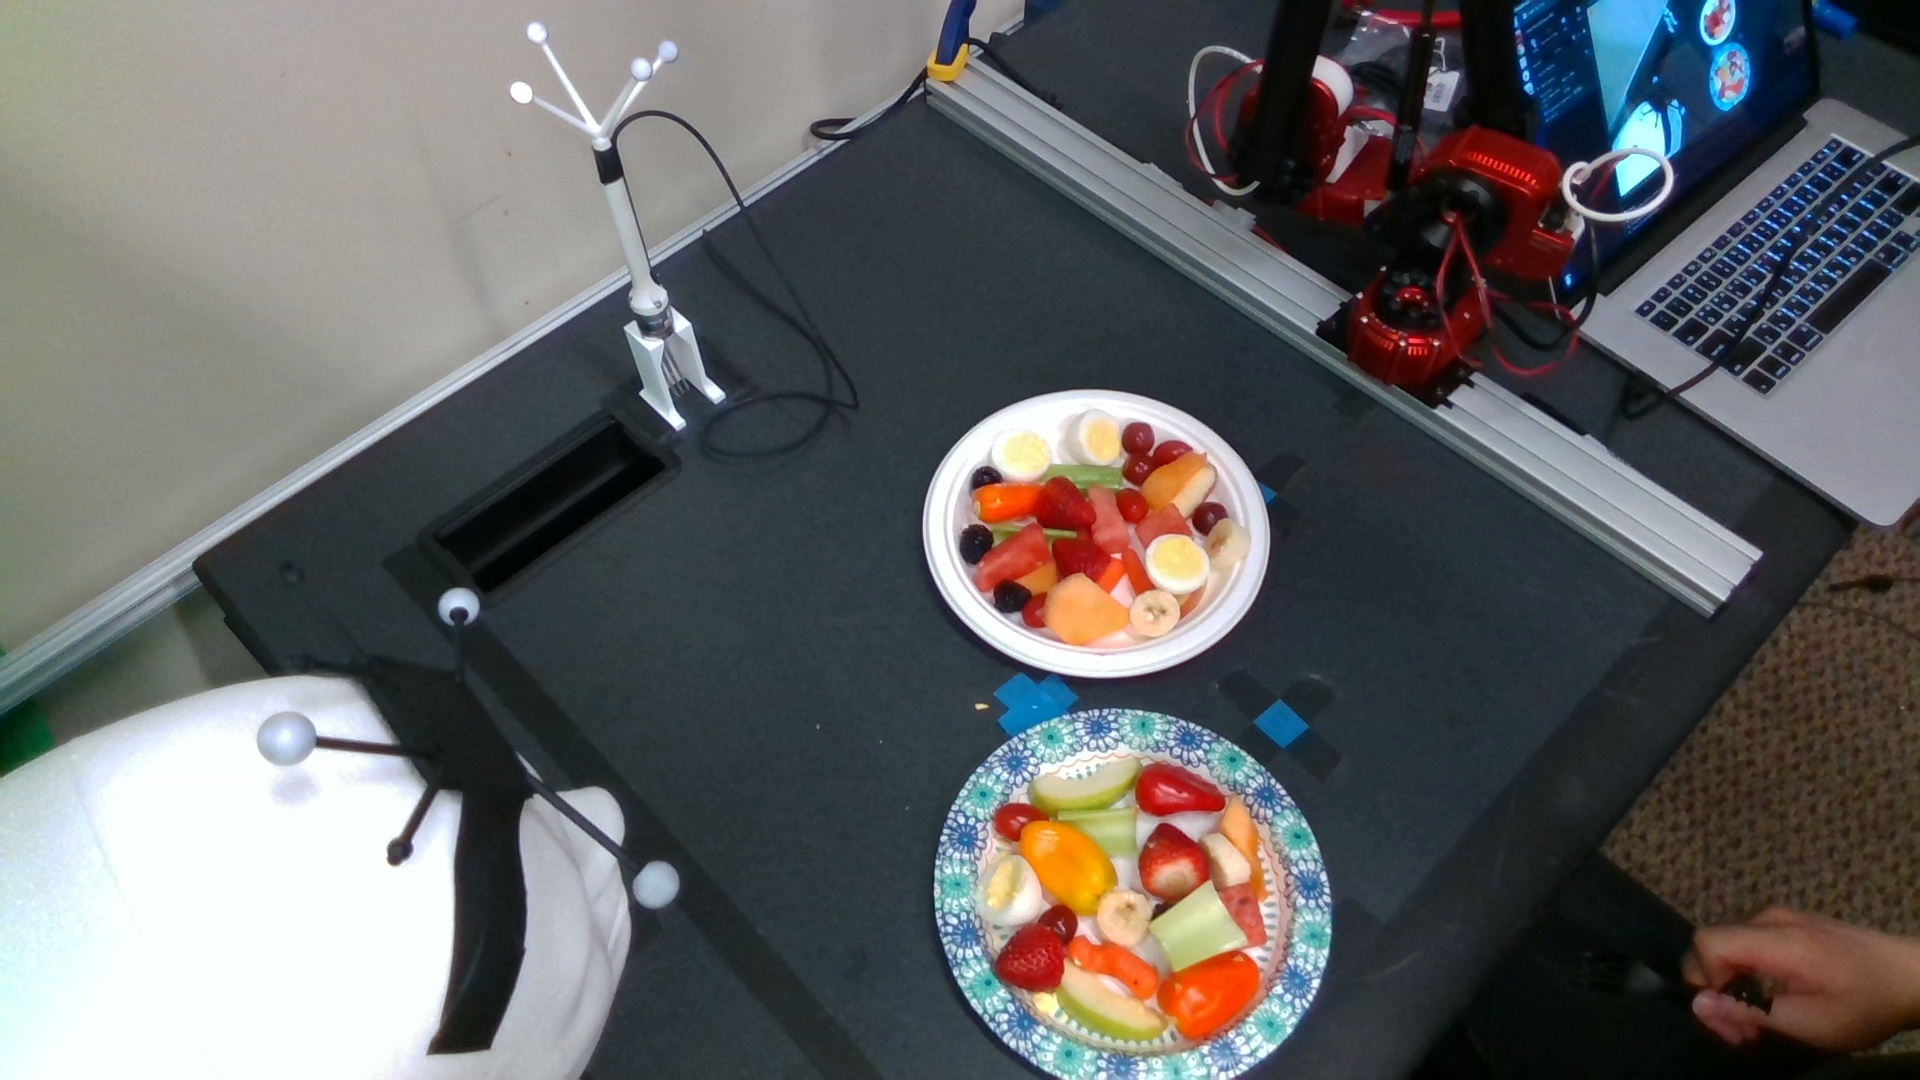apple: (1058, 957, 1168, 1040), (1031, 758, 1143, 814), (1174, 465, 1217, 517)
banana: (1098, 890, 1153, 945), (1201, 832, 1251, 884), (1131, 591, 1182, 638), (1207, 520, 1249, 571)
bell_pepper: (1021, 820, 1120, 916), (1156, 949, 1261, 1039), (1135, 764, 1225, 816), (972, 484, 1044, 524)
blackberry: (960, 525, 993, 564), (993, 582, 1031, 612), (972, 467, 1000, 491)
cantalope: (1044, 574, 1127, 645), (1222, 798, 1265, 894), (1142, 452, 1204, 506)
carrot: (1067, 938, 1159, 996), (1126, 550, 1153, 595)
celery: (1151, 881, 1247, 971)
cherry_tomato: (994, 804, 1048, 843), (1117, 488, 1149, 522), (1156, 440, 1192, 465)
egg: (977, 855, 1043, 927), (1145, 534, 1209, 593), (1065, 407, 1122, 464), (992, 430, 1052, 481)
grape: (1038, 905, 1077, 942), (1124, 454, 1158, 487), (1192, 502, 1228, 533), (1124, 422, 1155, 455)
melon: (975, 524, 1050, 589), (1218, 884, 1266, 949), (1091, 484, 1130, 553), (1135, 502, 1189, 545)
plate: (934, 708, 1332, 1080), (923, 386, 1271, 676)
strawberry: (1138, 822, 1211, 899), (993, 924, 1065, 990), (1036, 477, 1096, 529), (1054, 537, 1109, 582)
